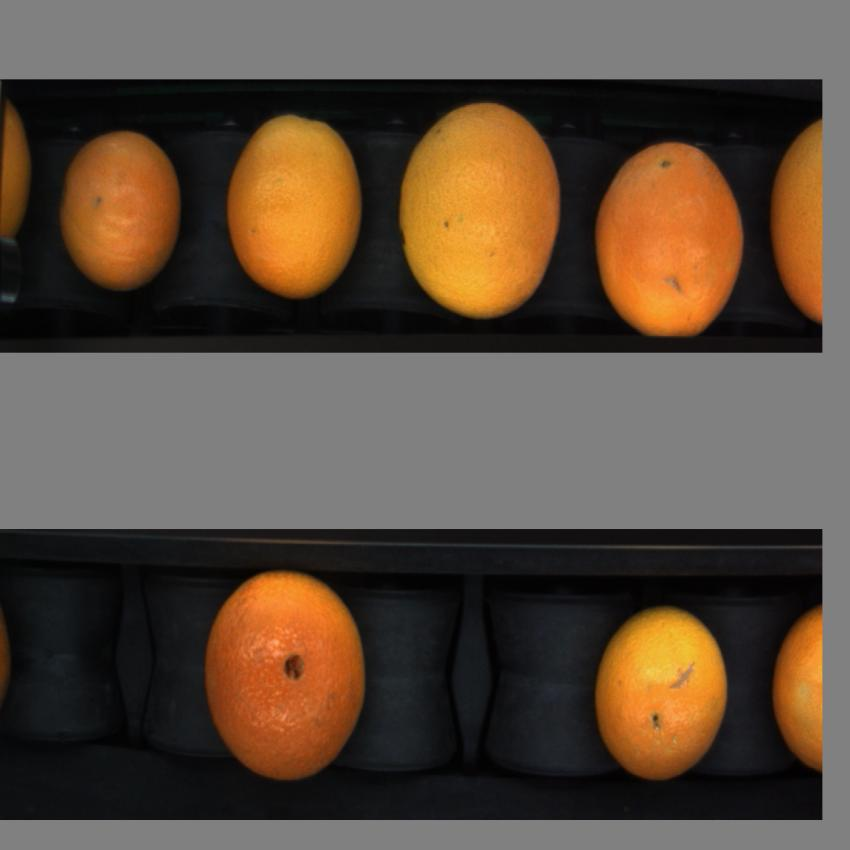Buen estado: (391, 90, 567, 327), (196, 568, 378, 785), (588, 125, 748, 338), (587, 596, 735, 798), (225, 111, 366, 303), (55, 117, 190, 295), (769, 119, 823, 340), (771, 594, 822, 784)
